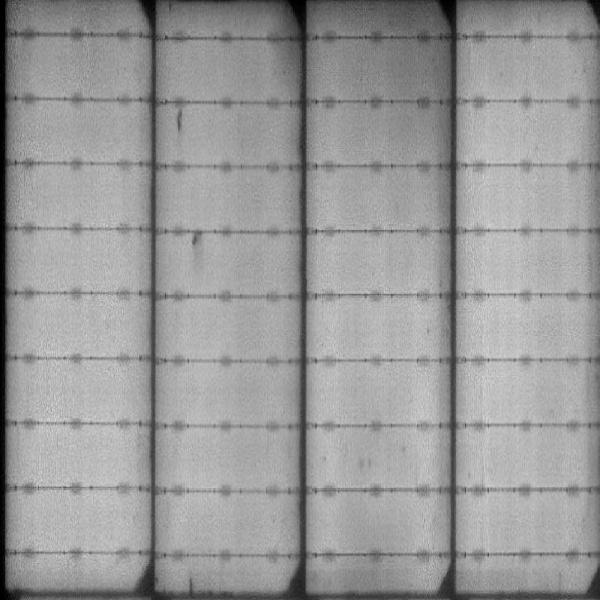scratch: (183, 570, 201, 598), (173, 109, 185, 135)
